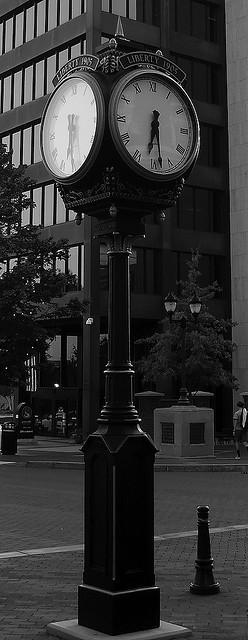car: (20, 425, 34, 438)
